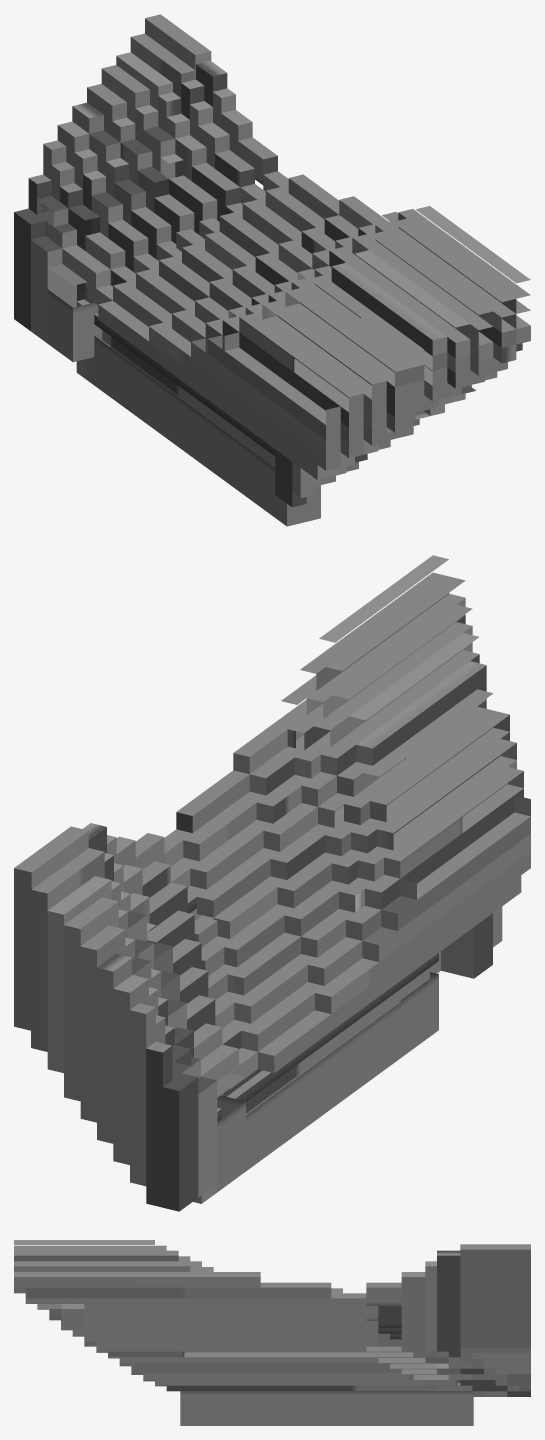
3 views of the same model, one above another, from view 1: azimuth 30°, elevation 25°; view 2: azimuth 150°, elevation 25°; view 3: azimuth 270°, elevation 25° (orthographic). The views are drawn at different scales.
Bounding box in the file's own units: 0.6275 × 1.24 × 2.75.
